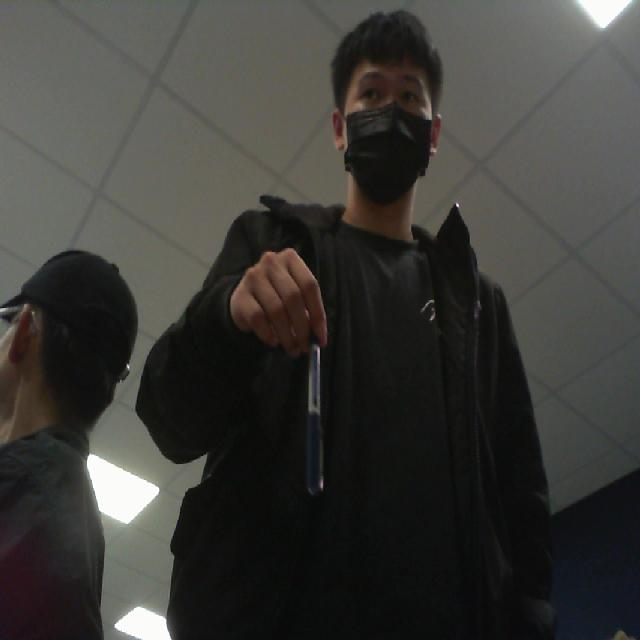Pen: (290, 304, 338, 533)
